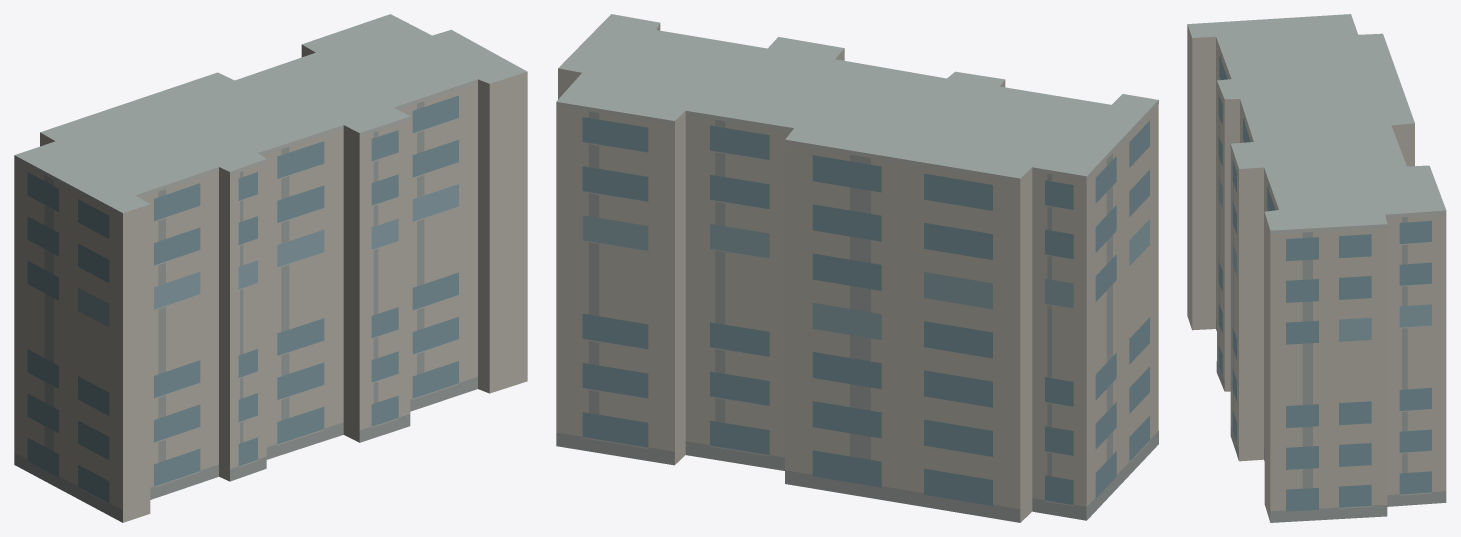
Rendered from survey-upis-32994193.glb.
3 views of the same model, side by side, from view 1: azimuth 30°, elevation 25°; view 2: azimuth 150°, elevation 25°; view 3: azimuth 270°, elevation 25° (orthographic). The views are drawn at different scales.
Visible parts, largest first — view 1: survey-upis-32994193.tmp; view 2: survey-upis-32994193.tmp; view 3: survey-upis-32994193.tmp.
Boxes of the visible parts, x1,y1,x2,y2 form: survey-upis-32994193.tmp: (14, 14, 527, 522); survey-upis-32994193.tmp: (556, 14, 1158, 522); survey-upis-32994193.tmp: (1187, 14, 1446, 522).
Size of the model in its own units: 31.09 by 19.55 by 15.71.
